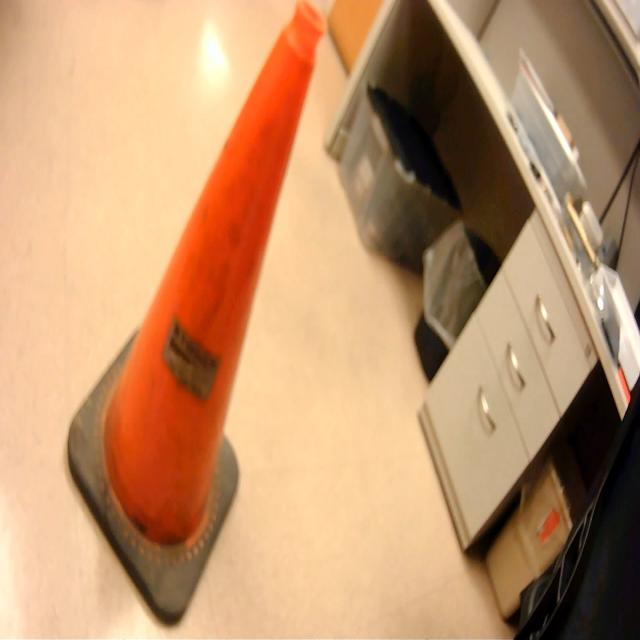traffic cone: (64, 1, 331, 632)
